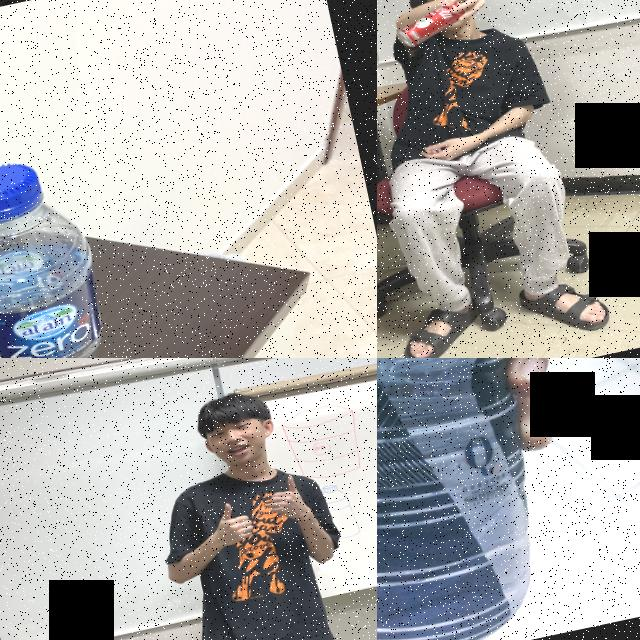bottle: (377, 358, 607, 640), (0, 138, 139, 358)
can: (392, 0, 472, 49)
